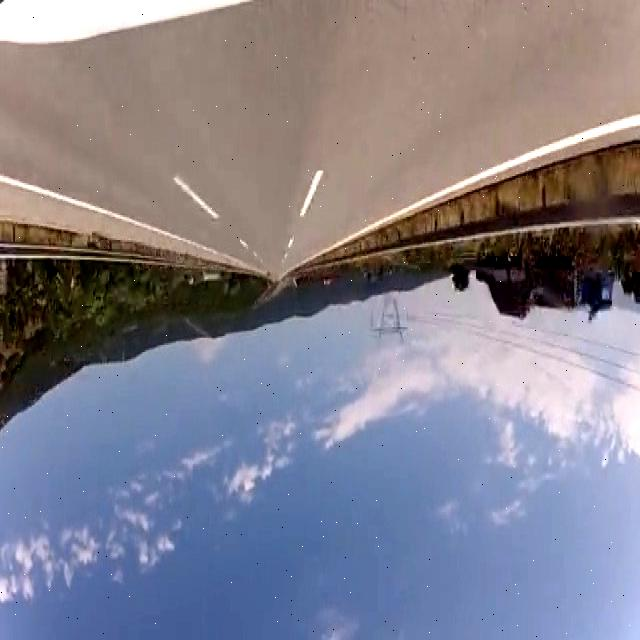lane: (322, 114, 640, 252), (0, 174, 245, 266), (174, 177, 219, 220), (300, 170, 324, 218)
road: (1, 3, 638, 276)
